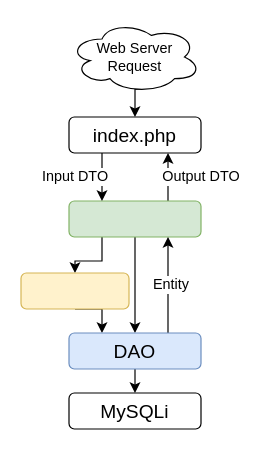
Some shapes in this 270 by 450 pixel diagram are drawn without their labels. Each missing label, with the centre of its shape:
"Controller" goes at pixel 134 218.
"Service" goes at pixel 74 290.
